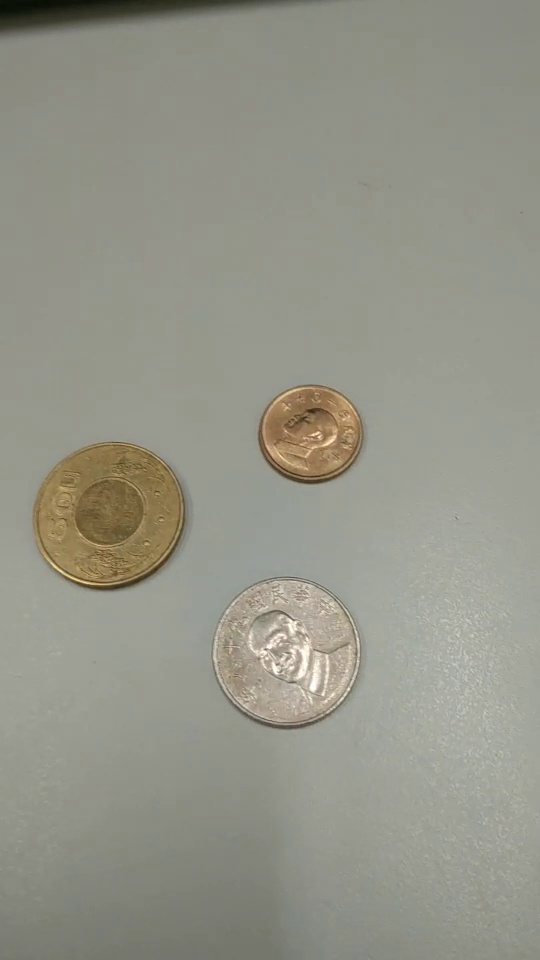NT$ 1: (258, 386, 365, 484)
NT$ 10: (211, 575, 363, 733)
NT$ 50: (35, 440, 186, 591)
